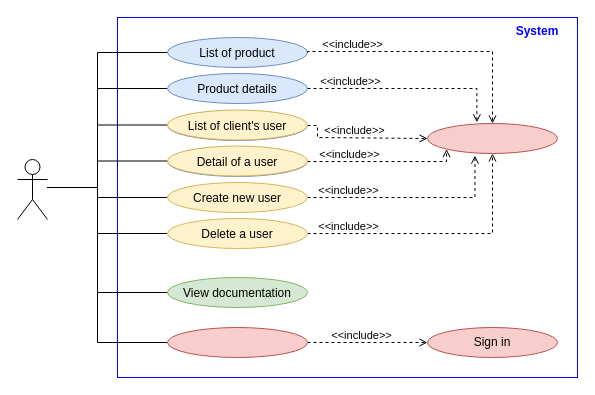
Some shapes in this 595 by 395 pixel diagram are drawn without their labels. Here are the shapes that lost their labels. From the top down, the centre of each, then its label:
At point 492,138: "With Token".
At point 32,189: "Client".
At point 237,342: "Get Bearer Token".
